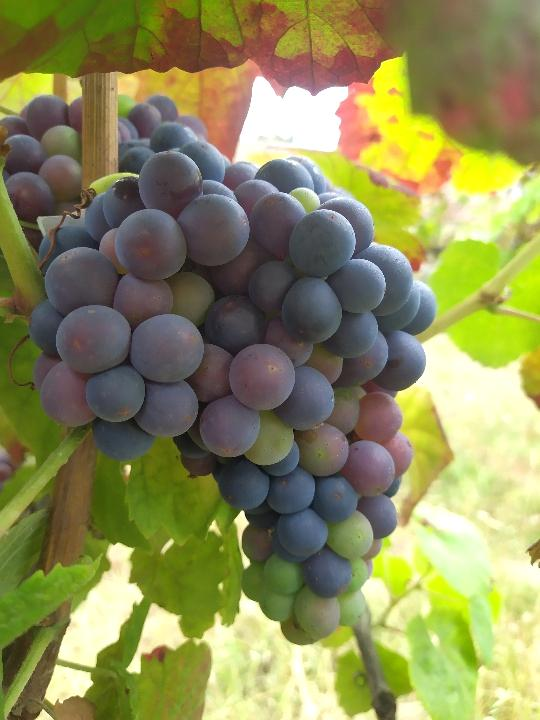grape: (24, 136, 441, 647)
